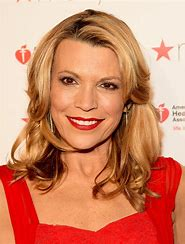person: (28, 8, 151, 157)
